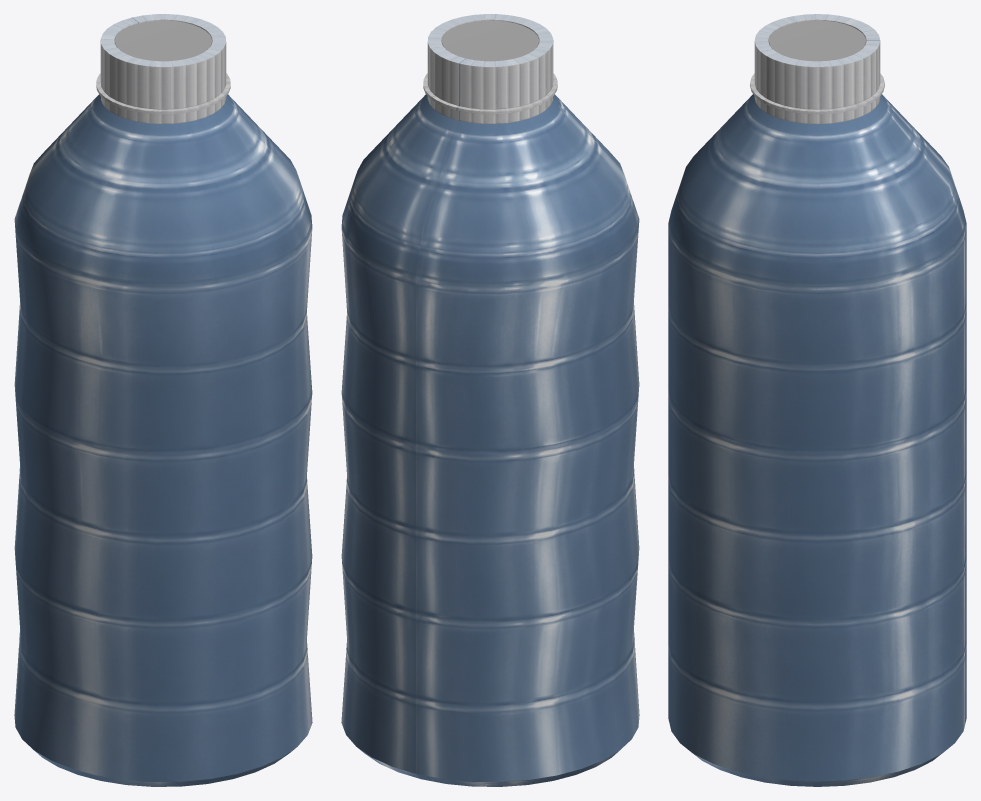
The model's file is Player.fbx.
3 renders of one model, left to right at view 1: azimuth 30°, elevation 25°; view 2: azimuth 150°, elevation 25°; view 3: azimuth 270°, elevation 25°, orthographic.
Visible parts, largest first — view 1: model:BottleShell, model:WaterVolume; view 2: model:BottleShell, model:WaterVolume; view 3: model:BottleShell, model:WaterVolume.
Part boxes in pixels (x1=…): model:BottleShell: x1=14, y1=14, x2=312, y2=786; model:WaterVolume: x1=115, y1=20, x2=211, y2=61; model:BottleShell: x1=341, y1=14, x2=639, y2=786; model:WaterVolume: x1=442, y1=20, x2=538, y2=61; model:BottleShell: x1=668, y1=14, x2=966, y2=786; model:WaterVolume: x1=769, y1=20, x2=865, y2=61.
Size of the model in its own units: 6.62 by 16.8 by 6.6.
